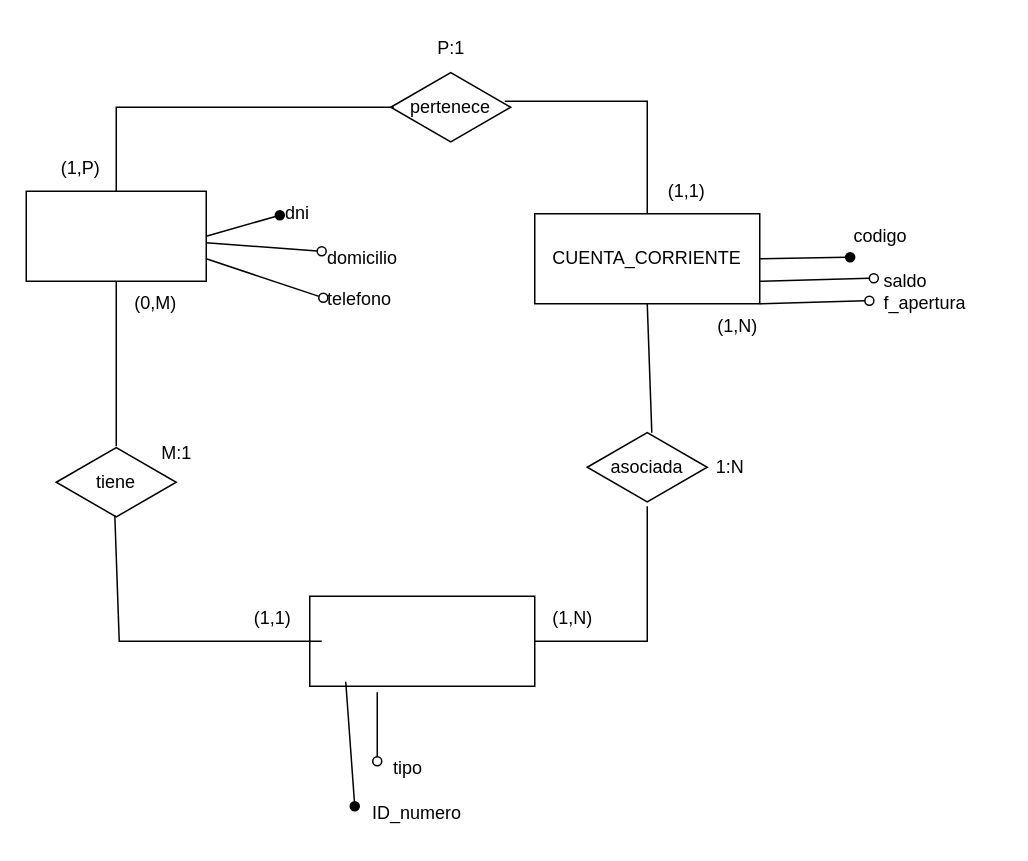
The diagram is 1028 pixels wide and 861 high, and some of its shapes have lost their labels. The centre of each missing label's shape, as x and y in pixels:
TARJETA_CREDITO: pixel 421 640
TITULAR: pixel 115 235
